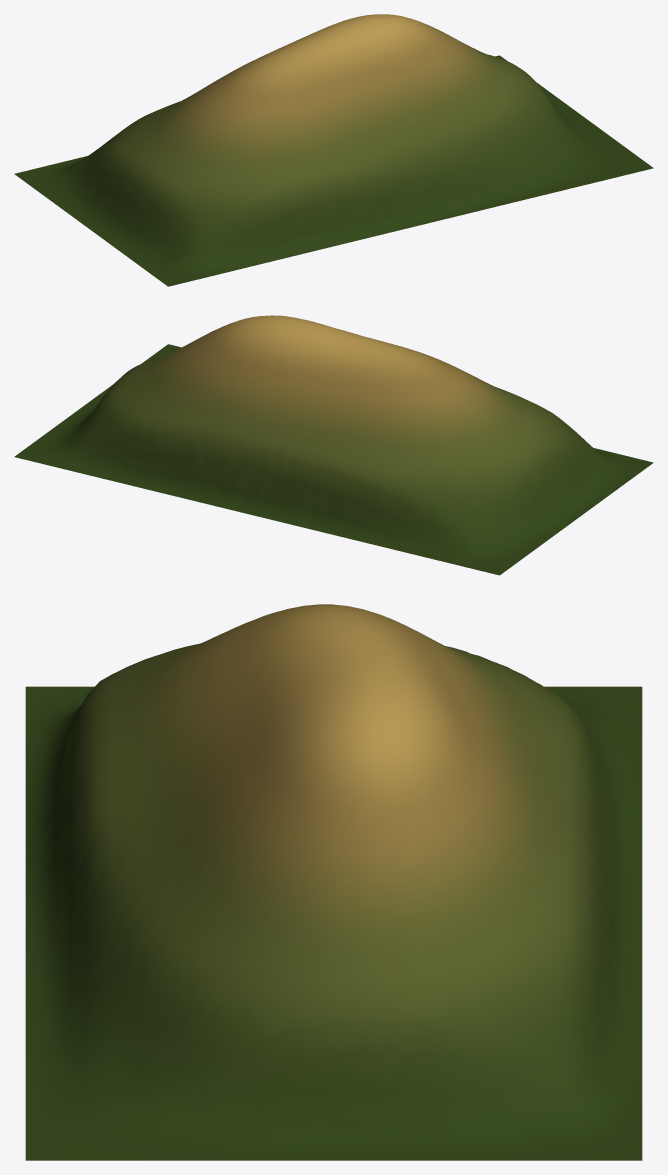
Rendered from Rolling_Medium.fbx.
The picture shows the model from 3 angles, top to bottom: view 1: azimuth 30°, elevation 25°; view 2: azimuth 150°, elevation 25°; view 3: azimuth 270°, elevation 25°; orthographic projection. The views are drawn at different scales.
Parts seen in each view (by area): view 1: Rolling_Medium; view 2: Rolling_Medium; view 3: Rolling_Medium.
Part boxes in pixels (x1,y1,x2,y2): Rolling_Medium: (14,14,653,286); Rolling_Medium: (14,315,653,575); Rolling_Medium: (25,604,642,1160).
Size of the model in its own units: 2000 by 534 by 1100.
